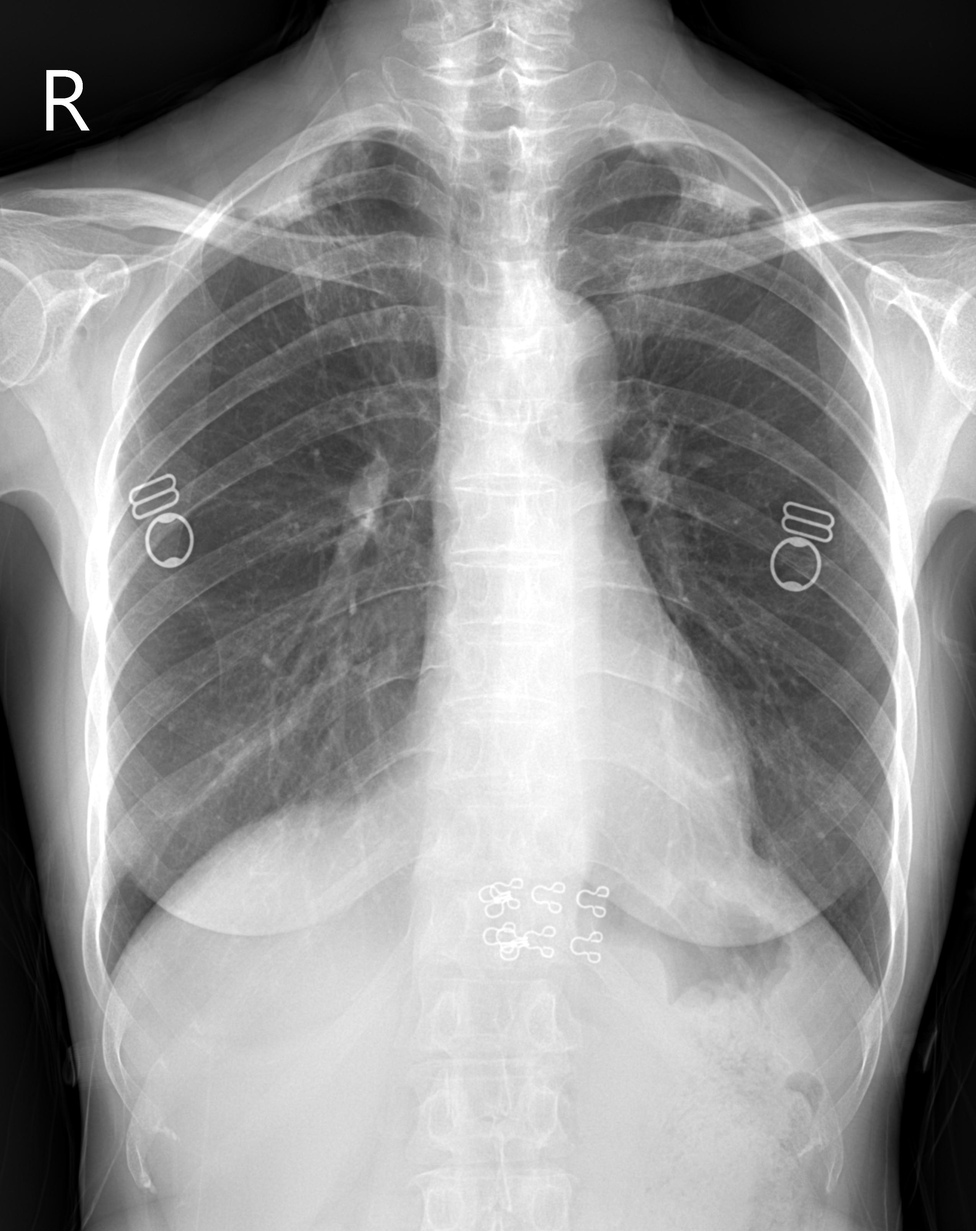Pleural thickening: (232, 152, 326, 219), (611, 122, 681, 155)
Pulmonary fibrosis: (250, 139, 407, 359), (616, 149, 772, 351)
